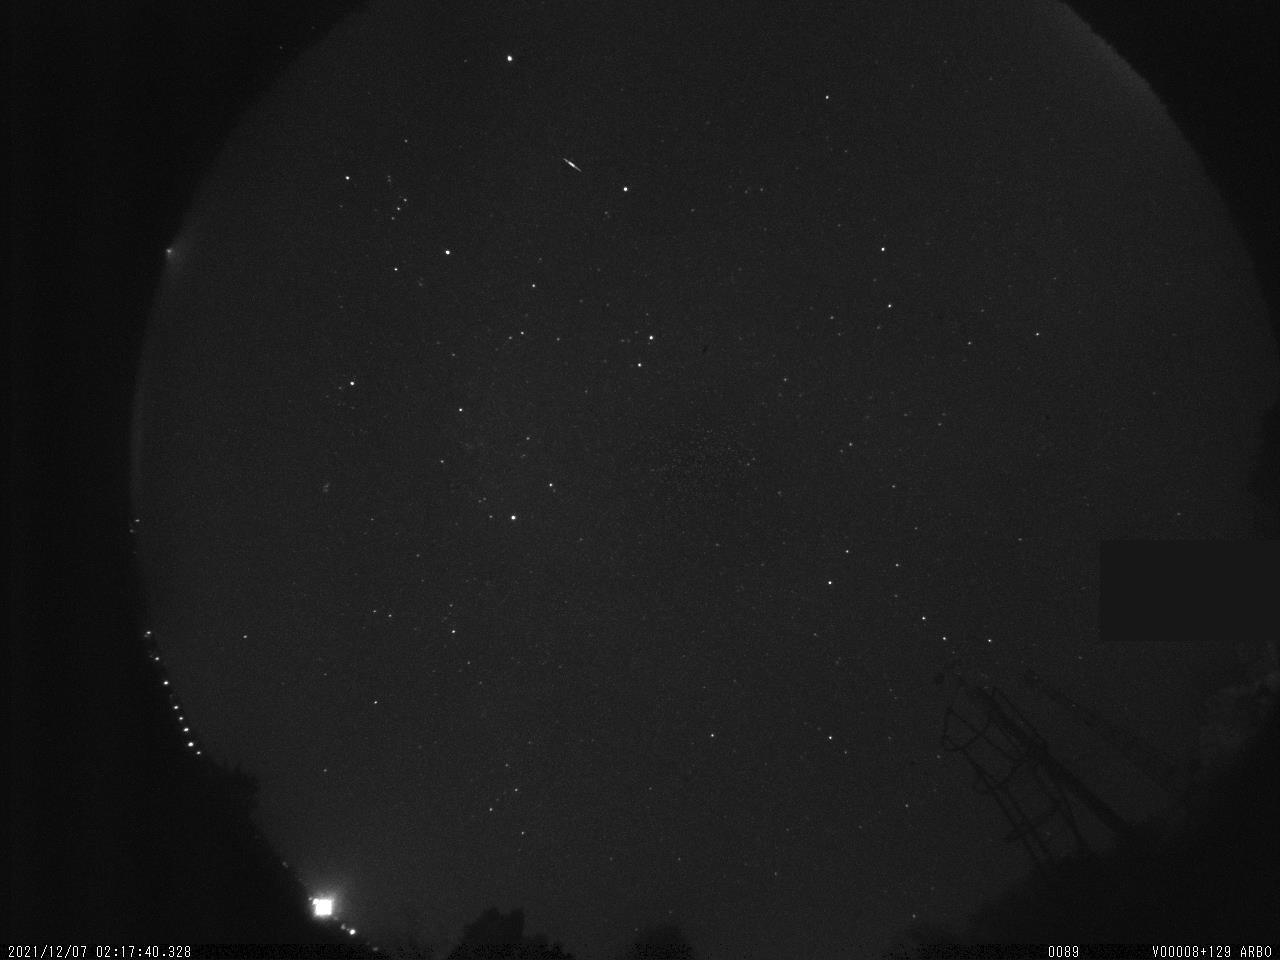meteor: (547, 147, 594, 193)
